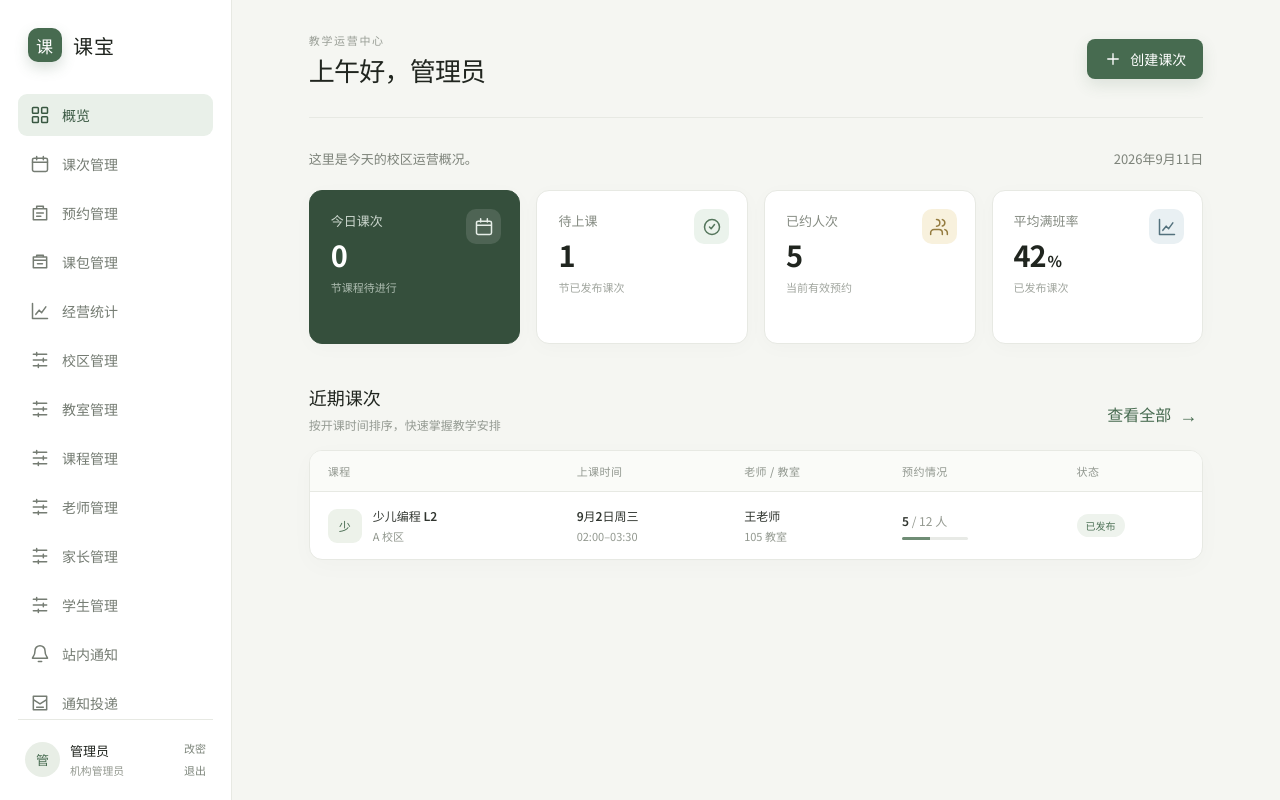
管理后台 › 从管理接口加载排课选项并展示基础资料页面
Expected: the text "少儿编程 L2" is shown, x1=373 y1=507 x2=437 y2=524
Click the button "创建课次" at (1145, 58), box x1=1087 y1=38 x2=1203 y2=78
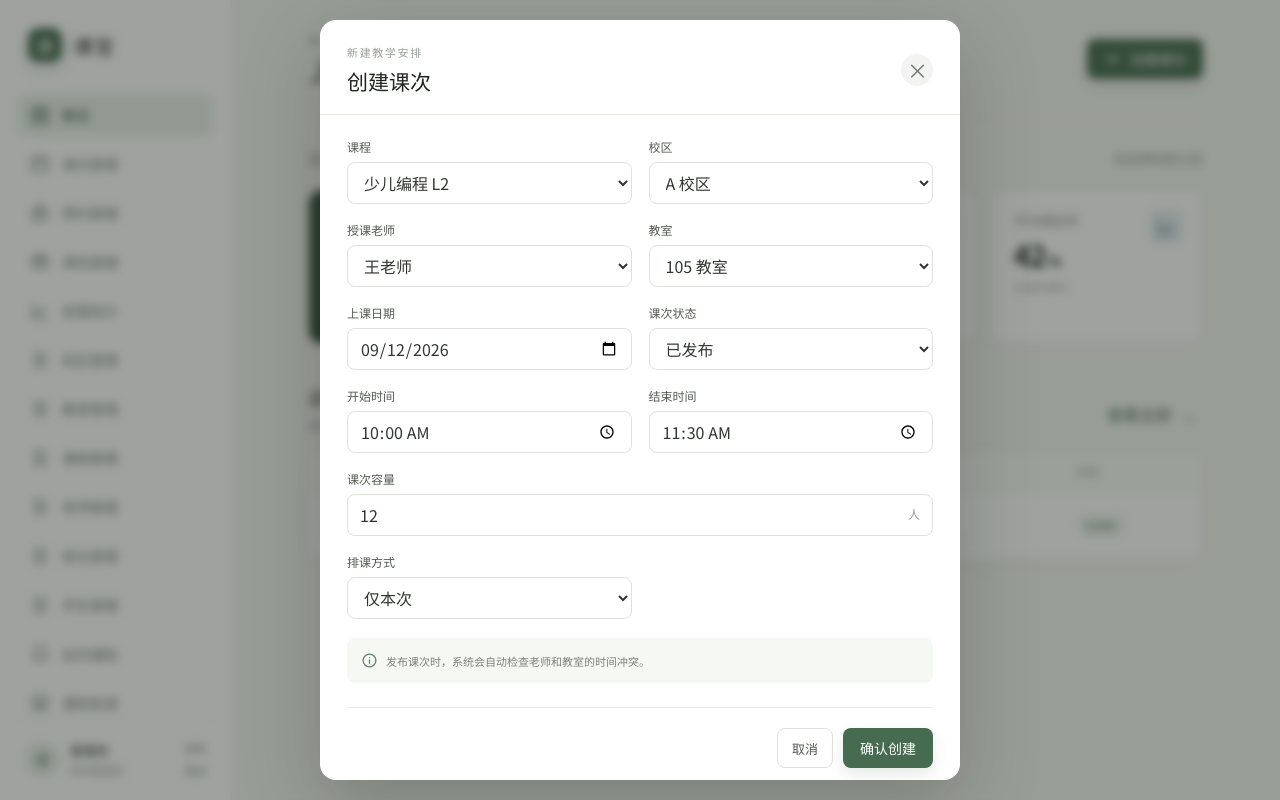
Click the button named "关闭" at (917, 70), box x1=901 y1=54 x2=933 y2=86
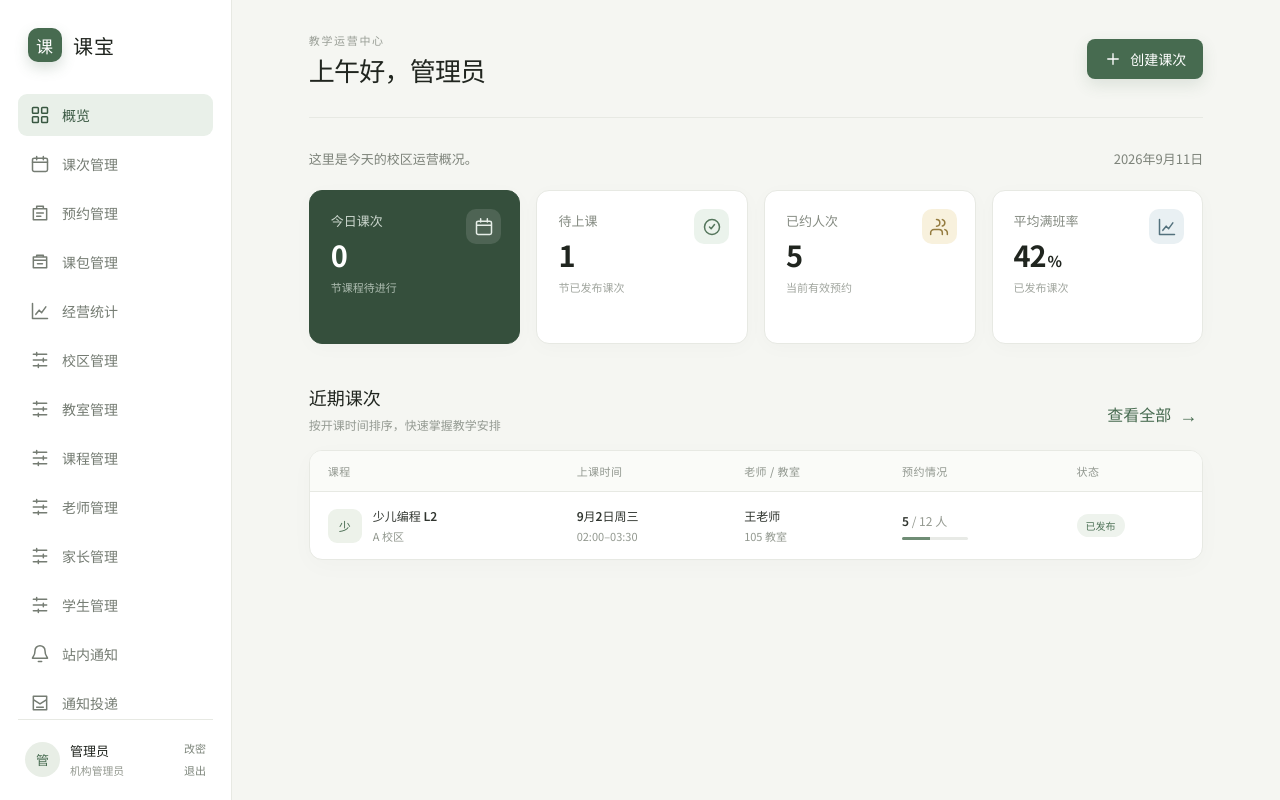
Click the button "校区管理" at (116, 360), box x1=18 y1=339 x2=213 y2=381
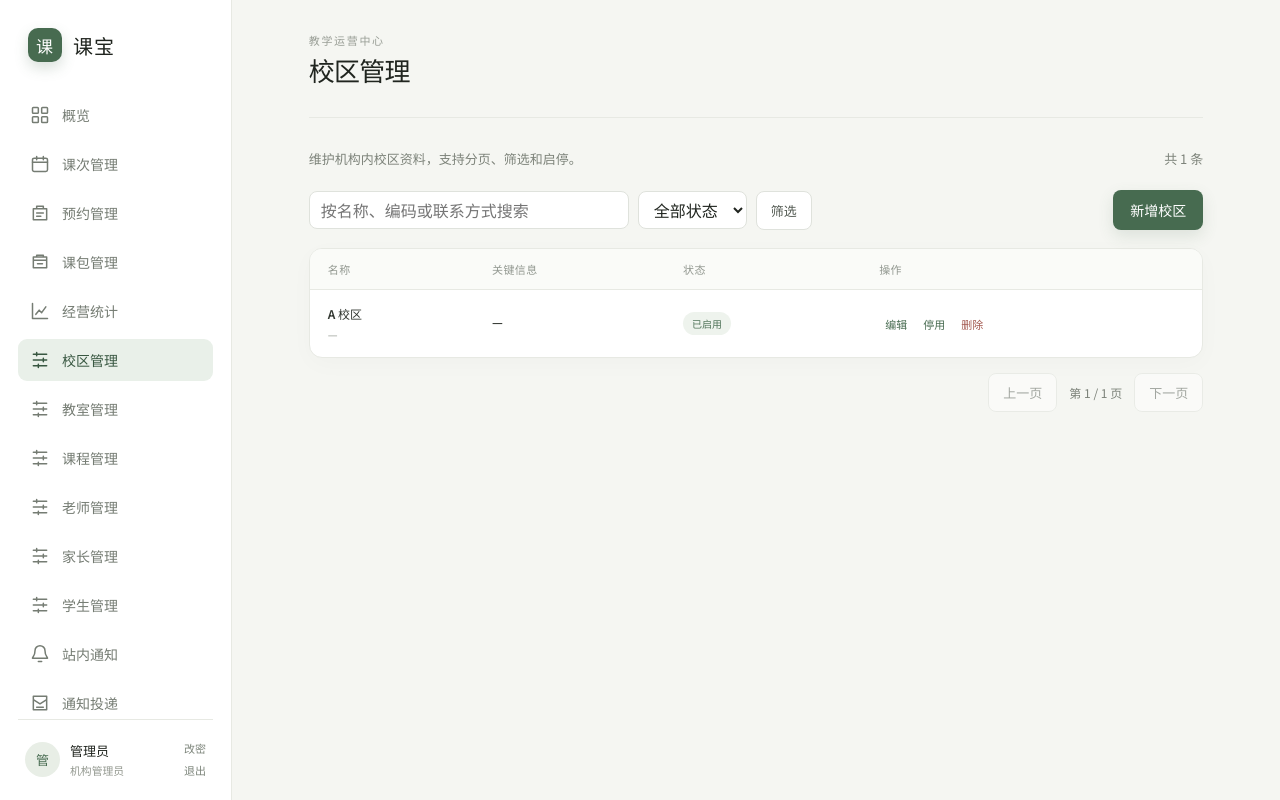
Expected: the text "A 校区" is shown, x1=328 y1=305 x2=362 y2=322
Result: the heading "校区管理" is shown at x1=309 y1=54 x2=410 y2=85
